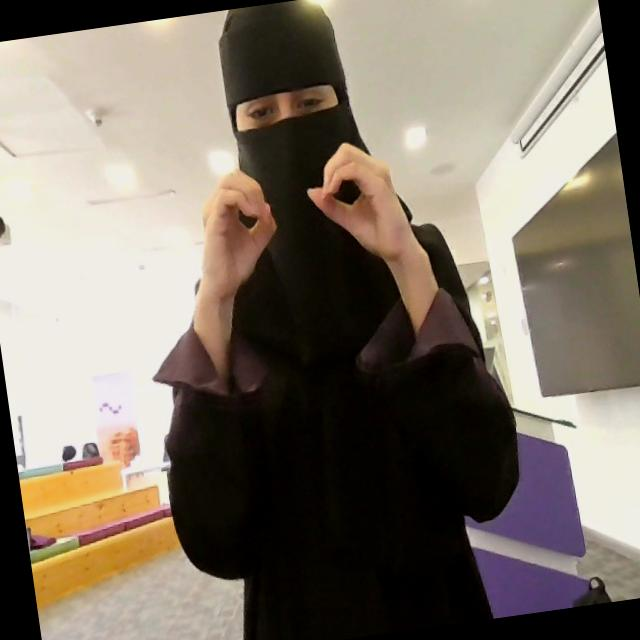analysis: (190, 136, 423, 280)
